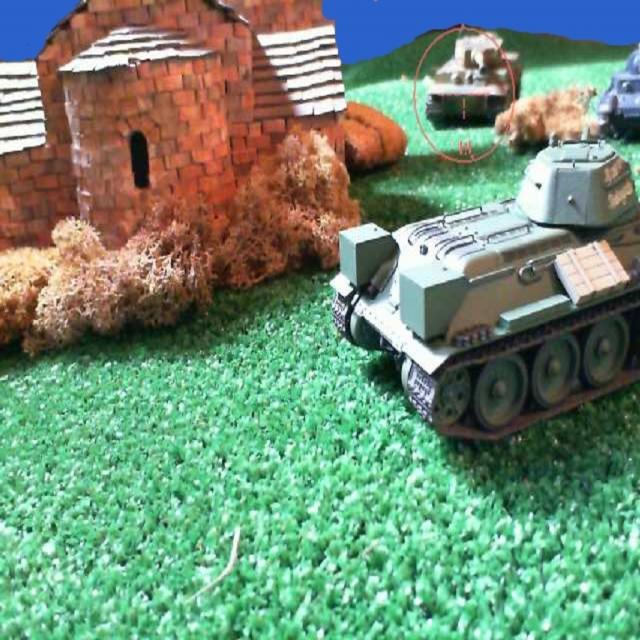tank: (328, 138, 638, 441), (426, 28, 524, 130), (594, 40, 639, 142)
